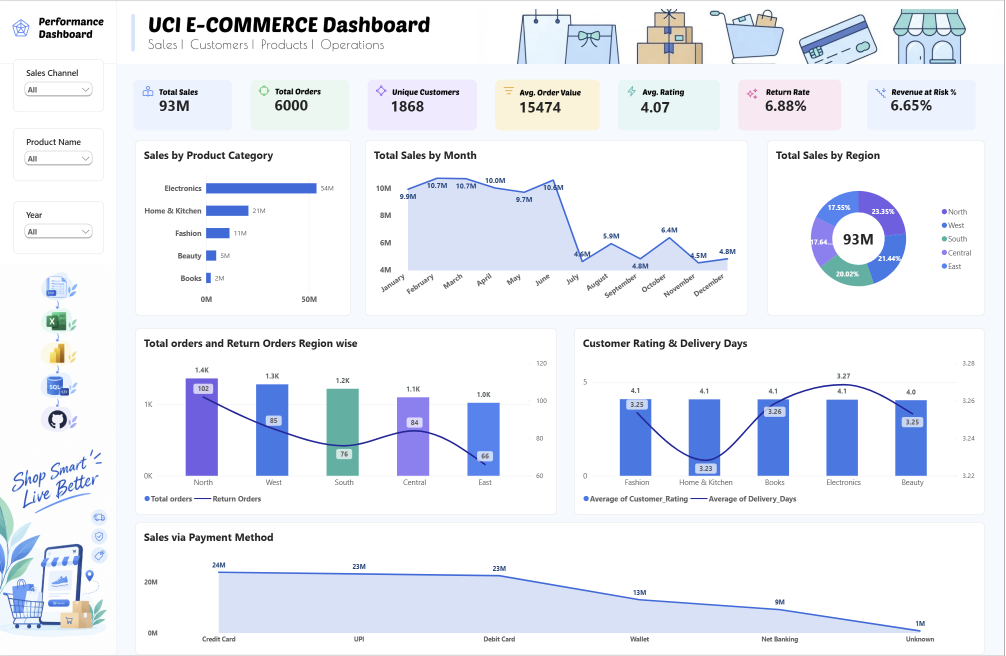

This screenshot's page, from the dashboard's own definition file:
{"tool":"powerbi","page":{"name":"Page 1","canvas":[1920,1250],"ordinal":0},"visuals":[{"type":"image","box":[0,0,1920,1250.7],"z":0},{"type":"cardVisual","fields":{"Data":["Ecommerce_Business_Analysis_Messy_Practice.Total Sales"]},"box":[281.1,158.7,105.2,80.3],"z":1000},{"type":"cardVisual","fields":{"Data":["Ecommerce_Business_Analysis_Messy_Practice.Total orders"]},"box":[491.5,164.5,132,66.9],"z":2000},{"type":"cardVisual","fields":{"Data":["Ecommerce_Business_Analysis_Messy_Practice.Unique Customer"]},"box":[711.4,164.5,135.8,70.8],"z":3000},{"type":"cardVisual","fields":{"Data":["Ecommerce_Business_Analysis_Messy_Practice.AoV"]},"box":[967.6,160.6,130,82.2],"z":4000},{"type":"cardVisual","fields":{"Data":["Ecommerce_Business_Analysis_Messy_Practice.Average Rating"]},"box":[1208.6,162.5,89.9,78.4],"z":5000},{"type":"cardVisual","fields":{"Data":["Ecommerce_Business_Analysis_Messy_Practice.Return Rate"]},"box":[1443.8,162.5,118.6,72.7],"z":6000},{"type":"cardVisual","fields":{"Data":["Ecommerce_Business_Analysis_Messy_Practice.Revenue at Risk"]},"box":[1682.9,164.5,120.5,66.9],"z":7000},{"type":"barChart","title":"Sales by Product Category","fields":{"Category":["Ecommerce_Business_Analysis_Messy_Practice.Product_Category"],"Y":["Ecommerce_Business_Analysis_Messy_Practice.Total Sales"]},"box":[258.2,265.8,413.1,336.6],"z":8000},{"type":"areaChart","fields":{"Category":["Ecommerce_Business_Analysis_Messy_Practice.Order_Date.Variation.Date Hierarchy.Month"],"Y":["Ecommerce_Business_Analysis_Messy_Practice.Total Sales"]},"box":[698,265.8,732.4,336.6],"z":9000},{"type":"donutChart","fields":{"Category":["Ecommerce_Business_Analysis_Messy_Practice.Region"],"Y":["Ecommerce_Business_Analysis_Messy_Practice.Total Sales"]},"box":[1466.8,265.8,416.9,336.6],"z":10000},{"type":"lineStackedColumnComboChart","title":"Customer Rating & Delivery Days","fields":{"Category":["Ecommerce_Business_Analysis_Messy_Practice.Product_Category"],"Y":["Avg(Ecommerce_Business_Analysis_Messy_Practice.Customer_Rating)"],"Y2":["Avg(Ecommerce_Business_Analysis_Messy_Practice.Delivery_Days)"]},"box":[1097.7,625.3,786,357.6],"z":11000},{"type":"lineStackedColumnComboChart","title":"Total orders and Return Orders Region wise","fields":{"Category":["Ecommerce_Business_Analysis_Messy_Practice.Region"],"Y":["Ecommerce_Business_Analysis_Messy_Practice.Total orders"],"Y2":["Ecommerce_Business_Analysis_Messy_Practice.Return Orders"]},"box":[258.2,625.3,807,357.6],"z":12000},{"type":"slicer","fields":{"Values":["Ecommerce_Business_Analysis_Messy_Practice.Sales_Channel"]},"box":[24.9,110.9,174,101.4],"z":13000},{"type":"areaChart","title":"Sales via Payment Method","fields":{"Category":["Ecommerce_Business_Analysis_Messy_Practice.Payment_Method"],"Y":["Ecommerce_Business_Analysis_Messy_Practice.Total Sales"]},"box":[258.2,996.3,1625.5,254.3],"z":14000},{"type":"slicer","fields":{"Values":["Ecommerce_Business_Analysis_Messy_Practice.Product_Name"]},"box":[24.9,242.9,174,101.4],"z":15000},{"type":"slicer","fields":{"Values":["Ecommerce_Business_Analysis_Messy_Practice.Order_Date.Variation.Date Hierarchy.Year"]},"box":[24.9,382.5,174,101.4],"z":16000},{"type":"image","box":[0,502.9,221.8,334.7],"z":16001}]}

Visuals, with their boxes in screenshot pixels (x1, y1, x2, y2), scaled from the page's 1920x1250 canvas onto the 1006x656 screenshot:
image: box=[0, 0, 1005, 655]
cardVisual - Ecommerce_Business_Analysis_Messy_Practice.Total Sales: box=[147, 83, 202, 125]
cardVisual - Ecommerce_Business_Analysis_Messy_Practice.Total orders: box=[258, 86, 327, 121]
cardVisual - Ecommerce_Business_Analysis_Messy_Practice.Unique Customer: box=[373, 86, 444, 123]
cardVisual - Ecommerce_Business_Analysis_Messy_Practice.AoV: box=[507, 84, 575, 127]
cardVisual - Ecommerce_Business_Analysis_Messy_Practice.Average Rating: box=[633, 85, 680, 126]
cardVisual - Ecommerce_Business_Analysis_Messy_Practice.Return Rate: box=[756, 85, 819, 123]
cardVisual - Ecommerce_Business_Analysis_Messy_Practice.Revenue at Risk: box=[882, 86, 945, 121]
"Sales by Product Category" barChart: box=[135, 139, 352, 316]
areaChart - Ecommerce_Business_Analysis_Messy_Practice.Order_Date.Variation.Date Hierarchy.Month x Ecommerce_Business_Analysis_Messy_Practice.Total Sales: box=[366, 139, 749, 316]
donutChart - Ecommerce_Business_Analysis_Messy_Practice.Region x Ecommerce_Business_Analysis_Messy_Practice.Total Sales: box=[769, 139, 987, 316]
"Customer Rating & Delivery Days" lineStackedColumnComboChart: box=[575, 328, 987, 516]
"Total orders and Return Orders Region wise" lineStackedColumnComboChart: box=[135, 328, 558, 516]
slicer - Ecommerce_Business_Analysis_Messy_Practice.Sales_Channel: box=[13, 58, 104, 111]
"Sales via Payment Method" areaChart: box=[135, 523, 987, 655]
slicer - Ecommerce_Business_Analysis_Messy_Practice.Product_Name: box=[13, 127, 104, 181]
slicer - Ecommerce_Business_Analysis_Messy_Practice.Order_Date.Variation.Date Hierarchy.Year: box=[13, 201, 104, 254]
image: box=[0, 264, 116, 440]
